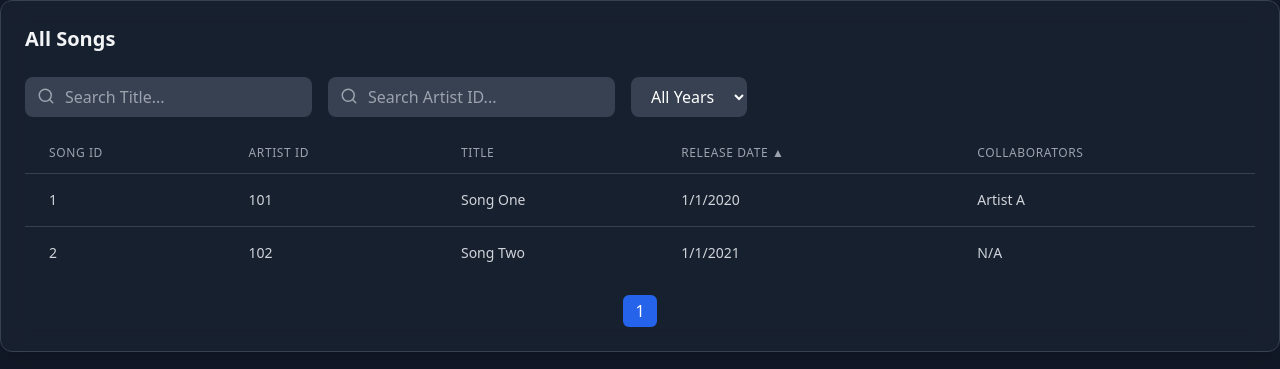
Test case: AllSongs Component › filters songs based on artist ID input
The width and height of the screenshot is (1280, 369).
Check: the text "Song One" is shown, box [437, 174, 657, 226]
Type in the artist ID search field for artist 101
In the field with placeholder "Search Artist ID...": (472, 97) [328, 77, 615, 117], type "101"
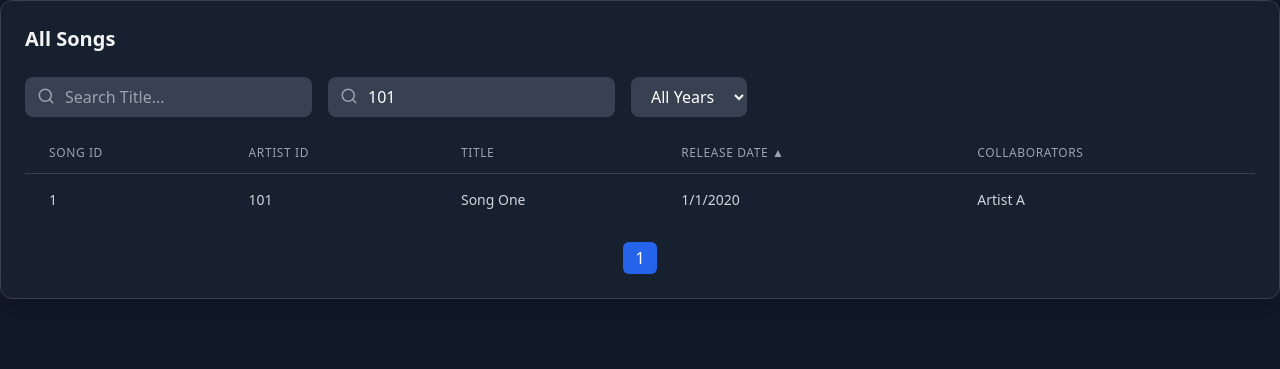
Check: the text "Song One" is shown, box [437, 174, 657, 226]
Check: the text "Song Two" is gone
